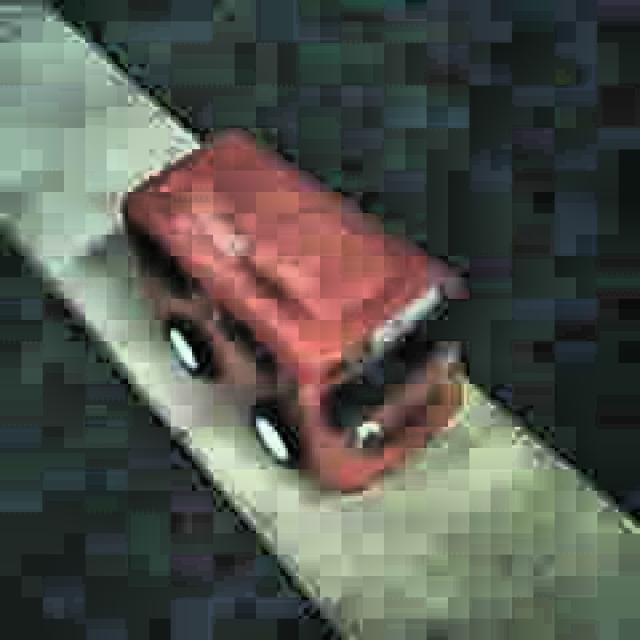bus: (122, 130, 466, 498)
